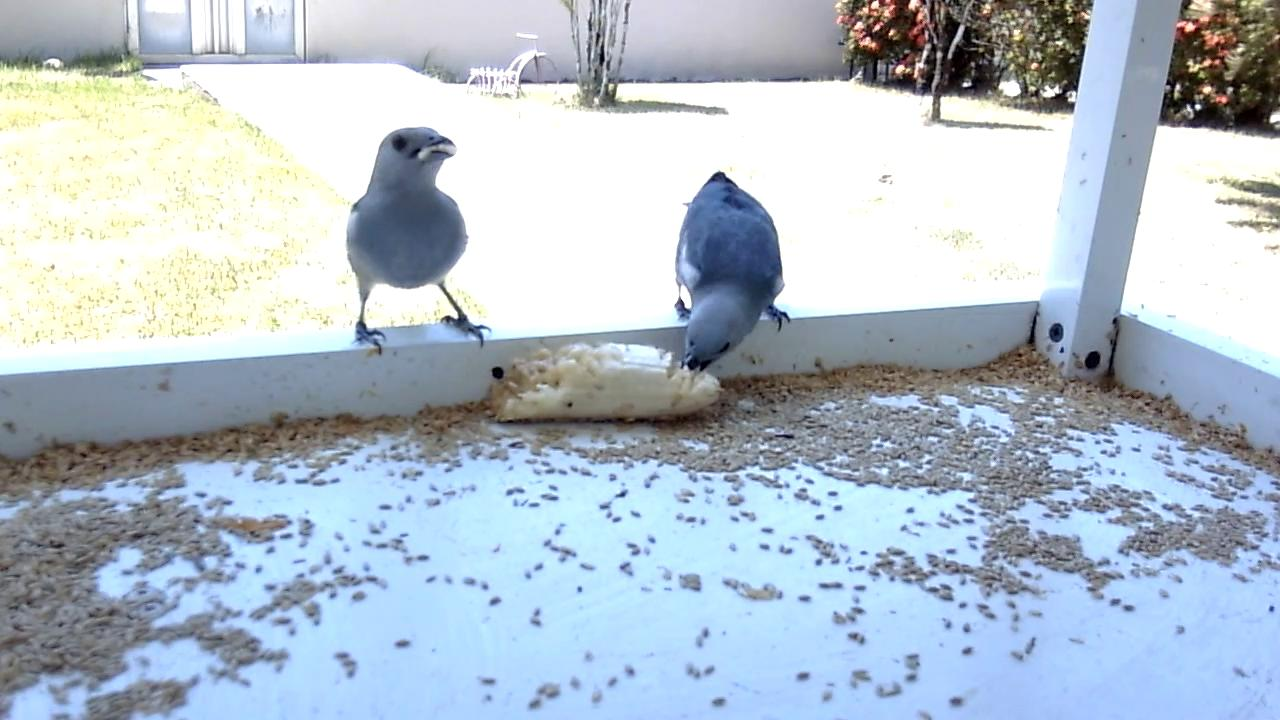sanhaco_da_amazonia: (345, 124, 493, 359), (670, 169, 795, 374)
